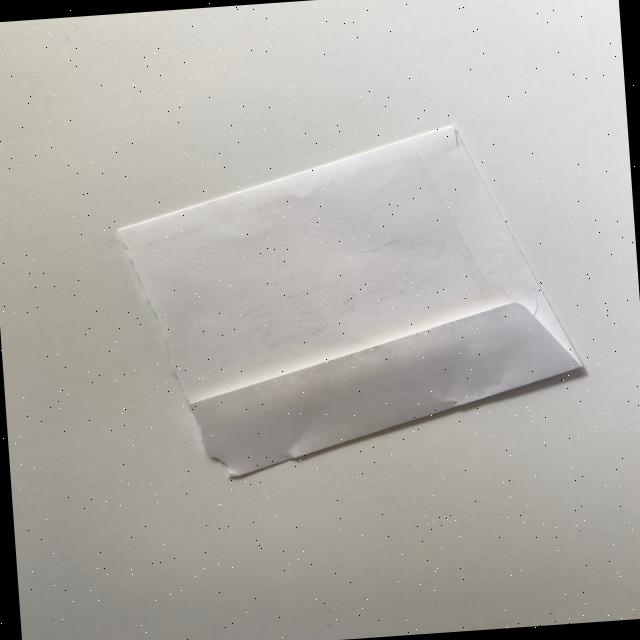paper: (109, 116, 590, 485)
